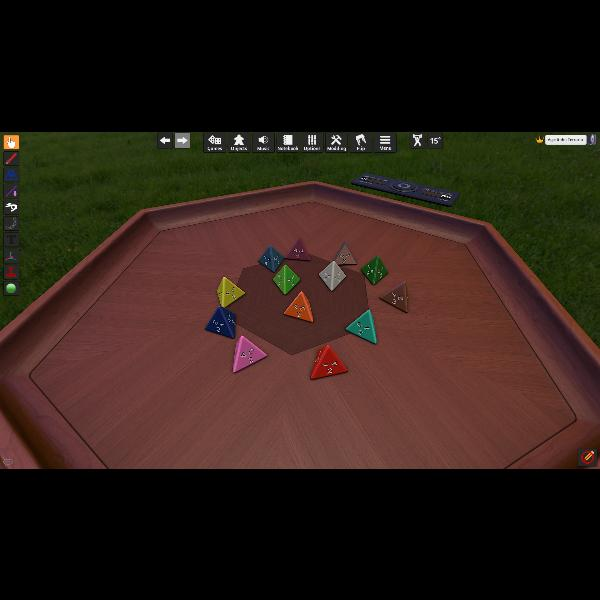d4: (232, 334, 268, 372), (310, 344, 346, 378), (346, 310, 377, 344), (206, 305, 236, 338), (284, 290, 312, 322), (218, 276, 245, 308), (380, 280, 406, 312), (274, 264, 300, 294), (318, 260, 344, 290), (360, 256, 387, 284), (258, 245, 284, 273), (286, 237, 310, 261), (333, 241, 355, 265)
